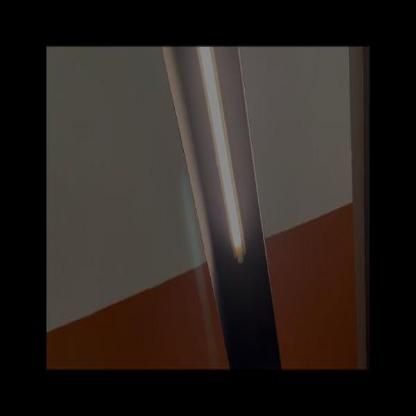light_on: (192, 46, 252, 282)
